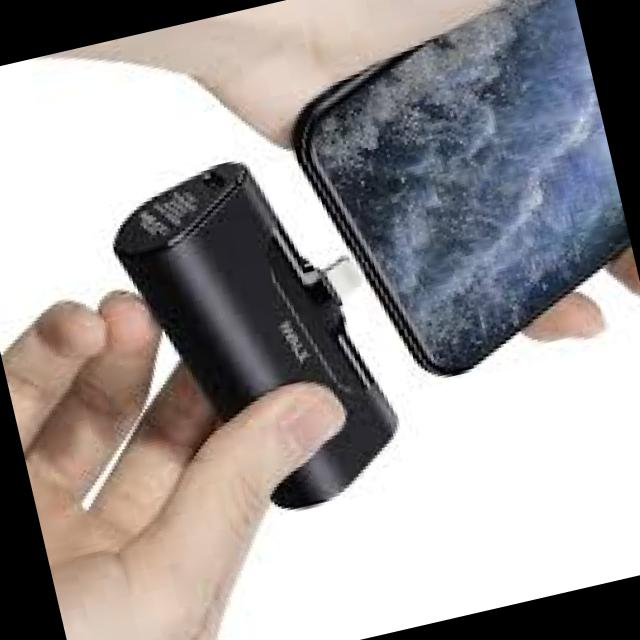power_bank: (100, 132, 413, 542)
